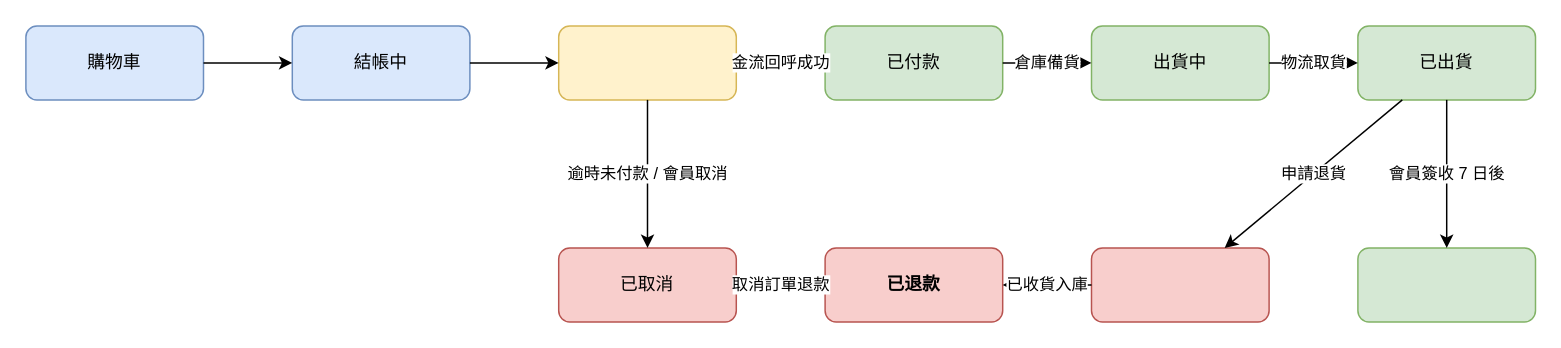
This 1561x348 diagram has some shape labels left out. Each missing label, with the centre of its shape:
"已完成" belongs at [1446,284].
"待付款" belongs at [646,62].
"退貨中" belongs at [1179,284].
